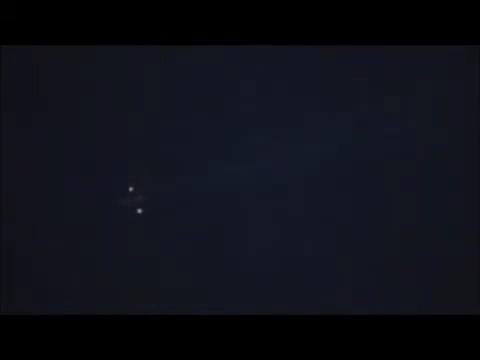Plane: (96, 174, 174, 224)
